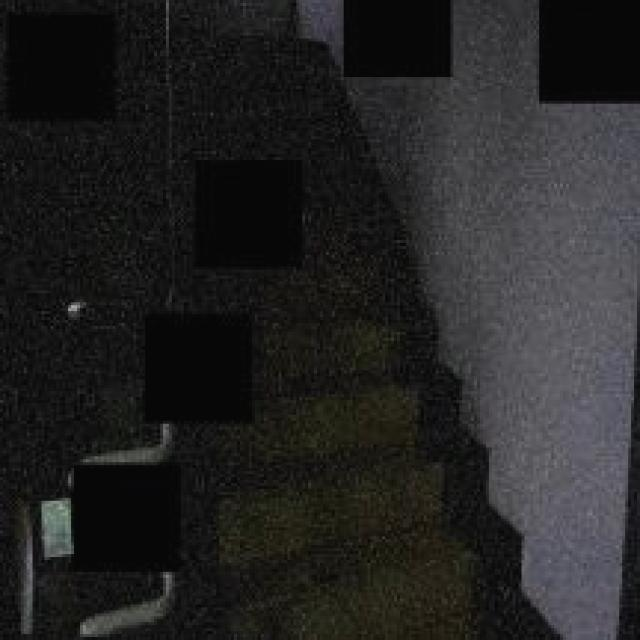upstair: (277, 309, 475, 640)
